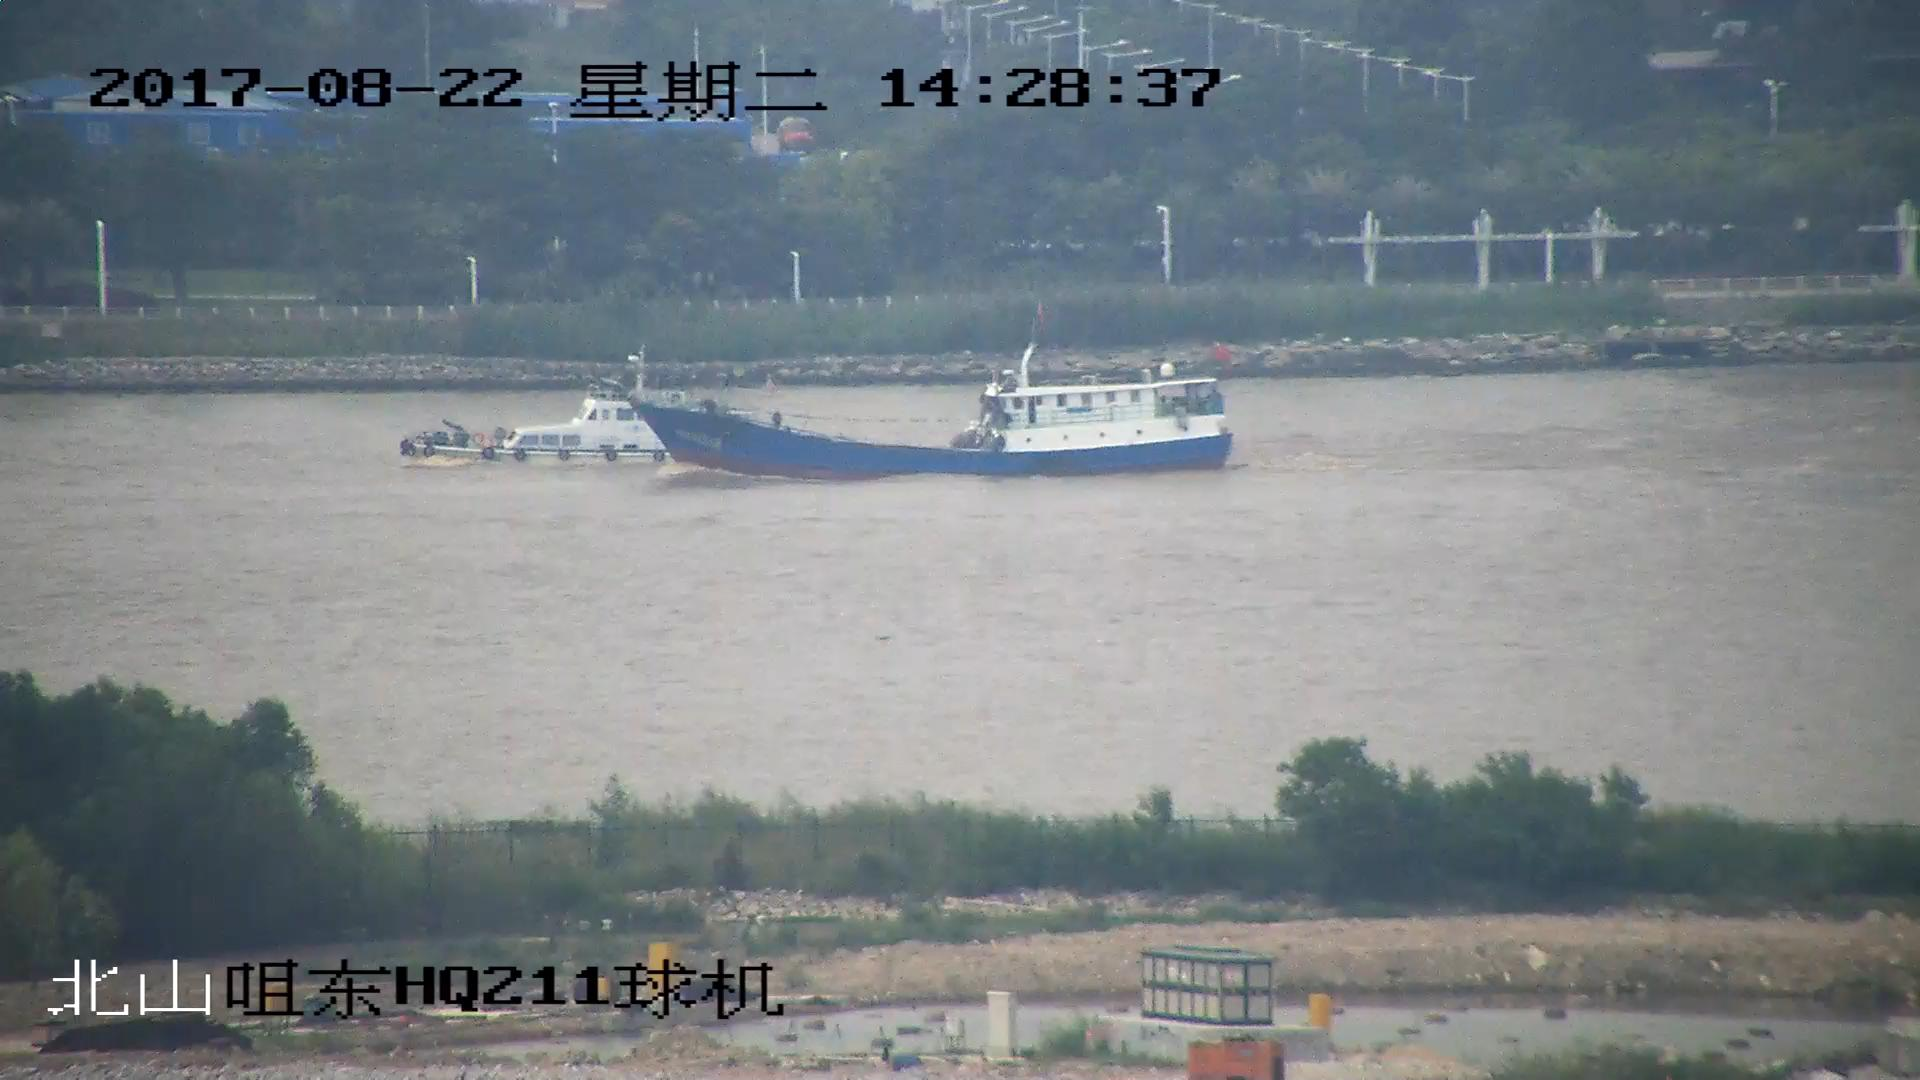fishing boat: (642, 318, 1233, 482)
passenger ship: (395, 373, 693, 469)
